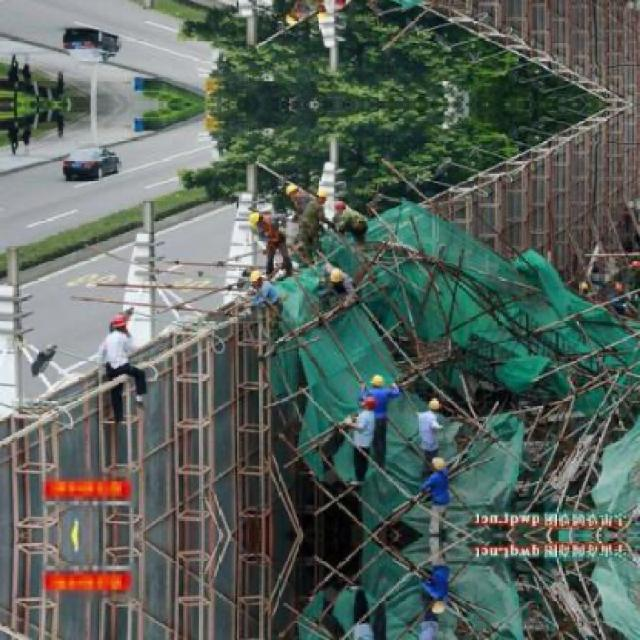con casco: (414, 386, 452, 420), (425, 439, 468, 468), (324, 262, 366, 287), (106, 304, 137, 330), (361, 364, 391, 383), (352, 395, 383, 410), (439, 597, 464, 615)
